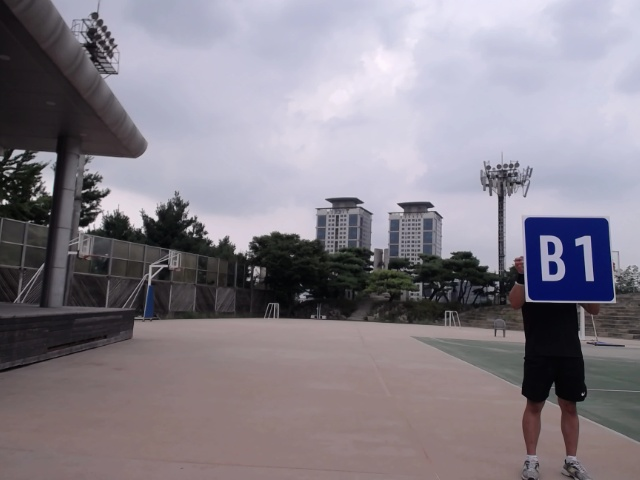delivery_b1: (523, 215, 616, 303)
